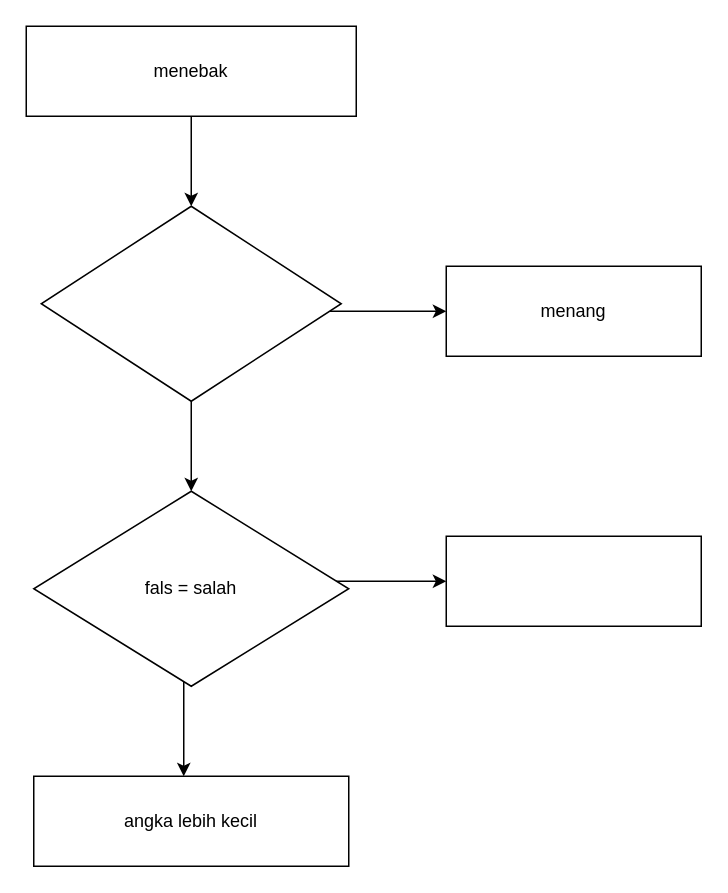
The diagram is 728 pixels wide and 893 high, and some of its shapes have lost their labels. The box of each missing label's shape, as (x1, y1, x2, y2) in pixels:
angka u lebih besar: (445, 535, 701, 626)
tebakan = angka: (40, 205, 341, 401)
